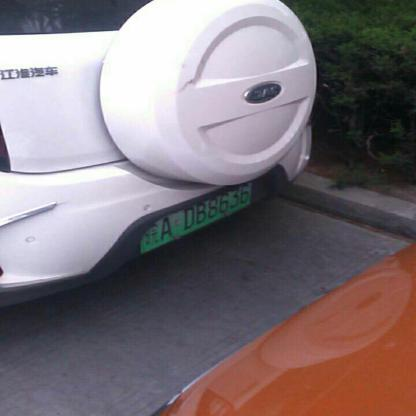lp: (140, 183, 251, 252)
